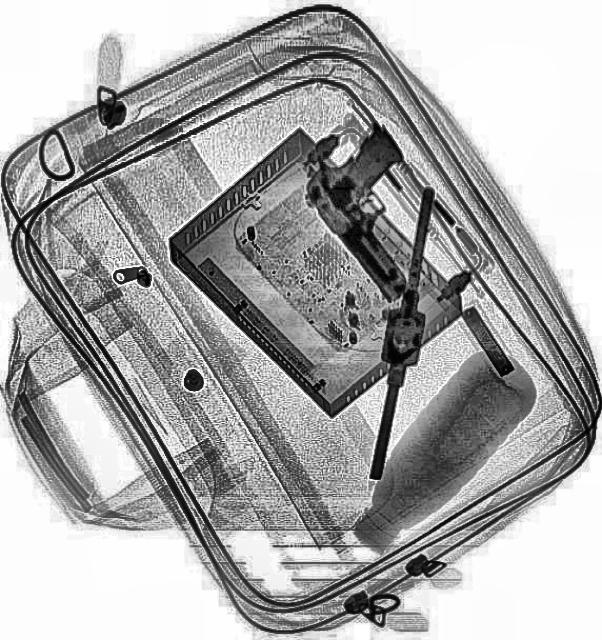Gun: (288, 116, 473, 304)
